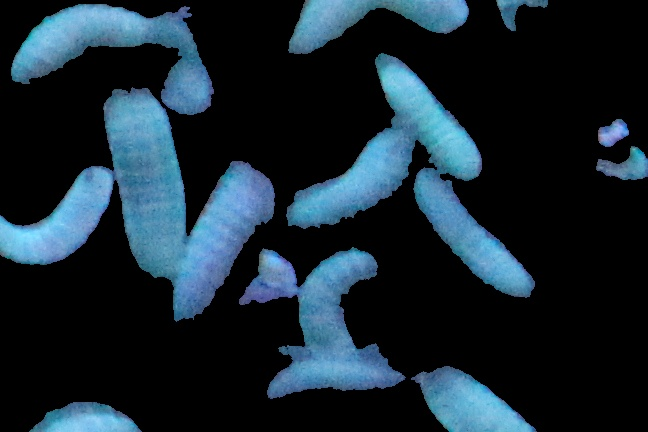larvae: (108, 83, 189, 287), (406, 168, 535, 296), (172, 158, 271, 318), (377, 53, 481, 181), (289, 123, 410, 231), (2, 165, 110, 269), (12, 1, 142, 85), (291, 3, 472, 58), (295, 247, 379, 361), (415, 361, 545, 432), (268, 348, 404, 404)
